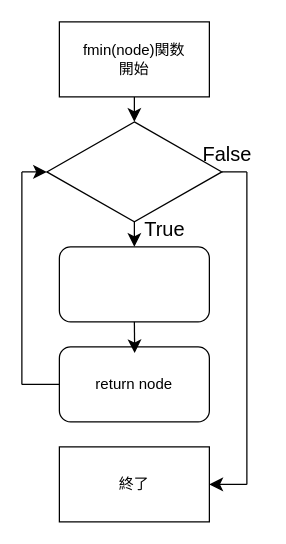
This 286x544 diagram has some shape labels left out. Here are the shapes that lost their labels. From the top down, the box of each, then its label:
(46, 121, 222, 222): while node.left is not None
(58, 246, 209, 322): node = node.left
